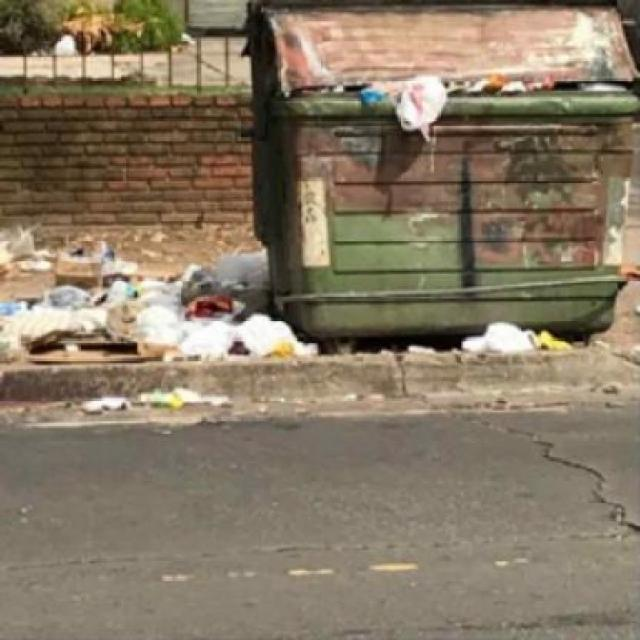garbage: (2, 228, 316, 360), (352, 74, 544, 132), (411, 325, 594, 359), (78, 383, 250, 413)
